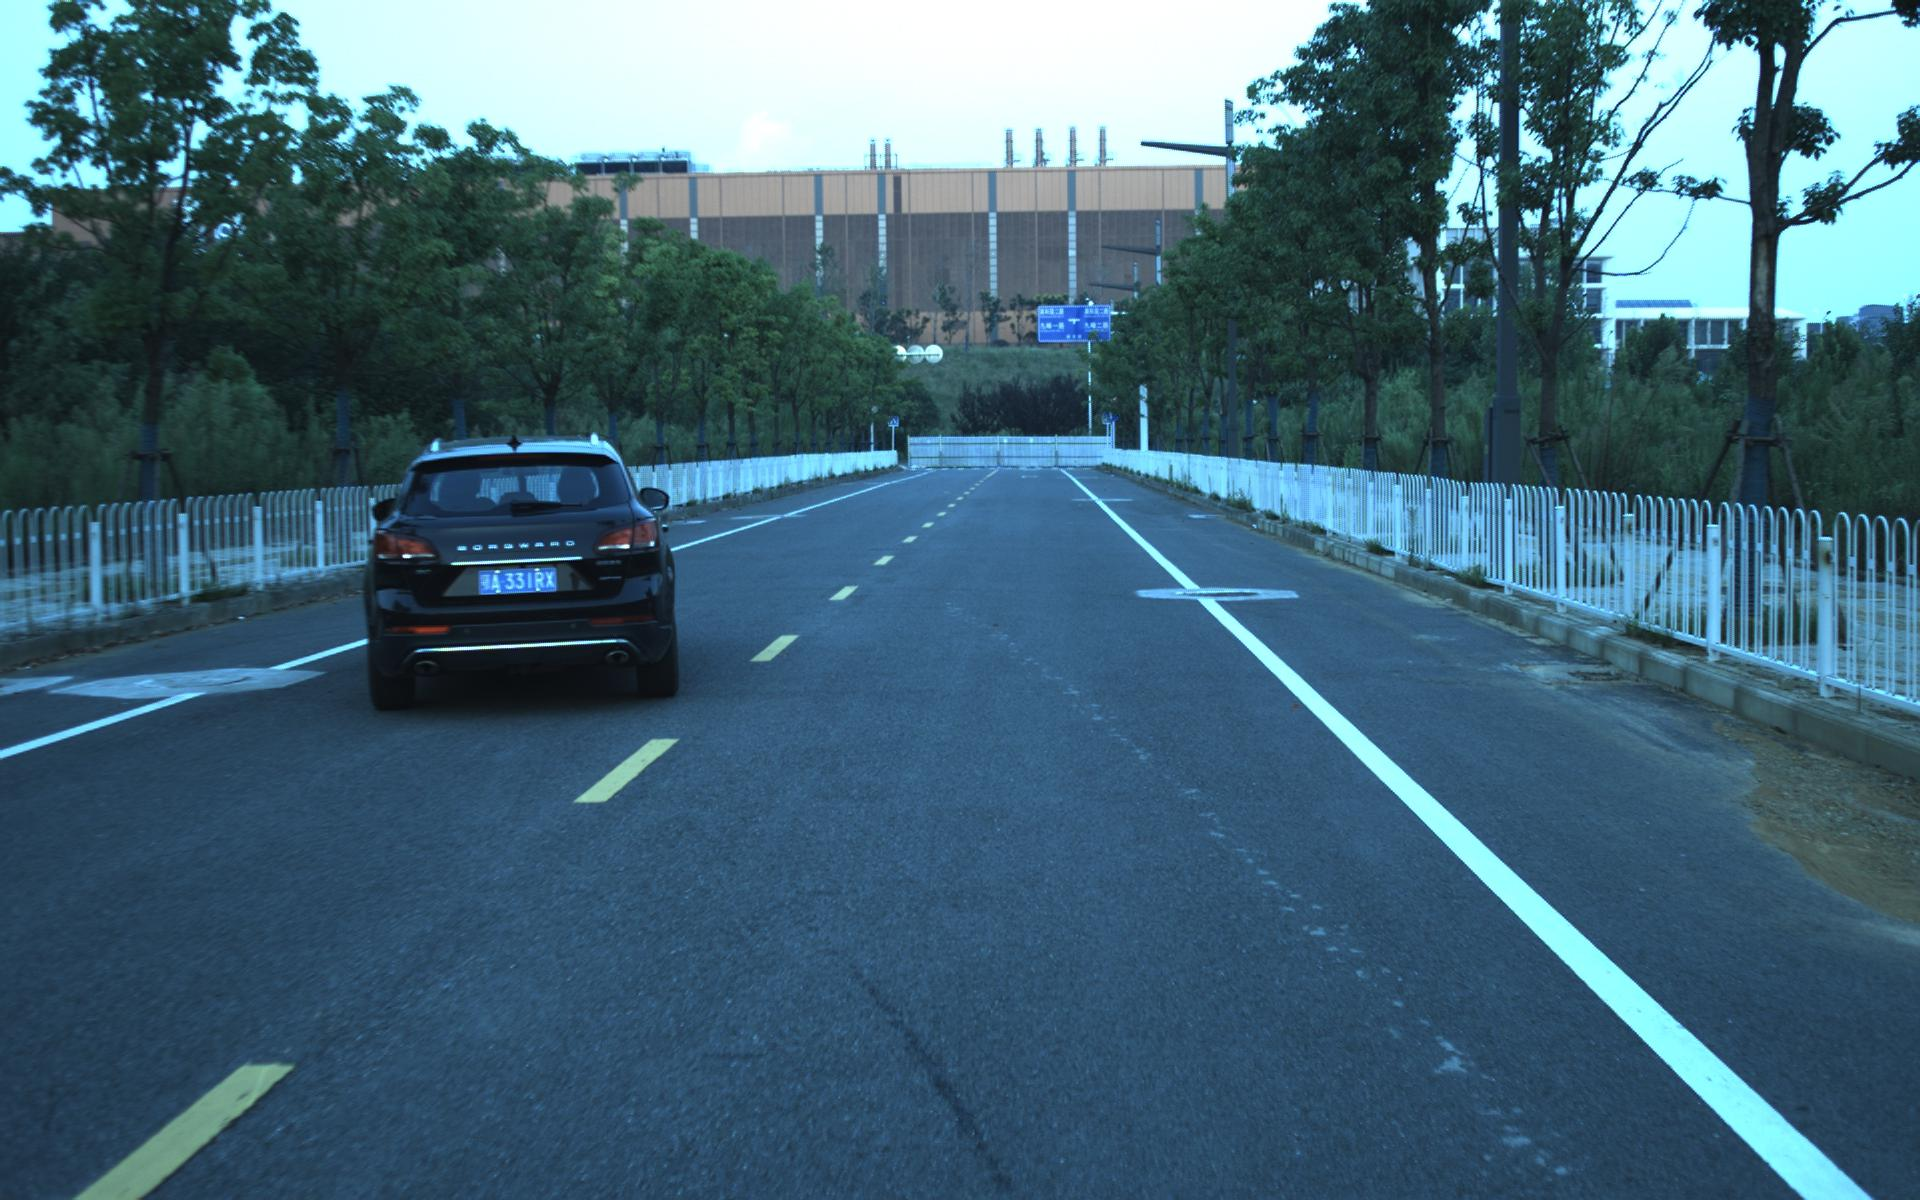Car: (351, 429, 688, 713)
